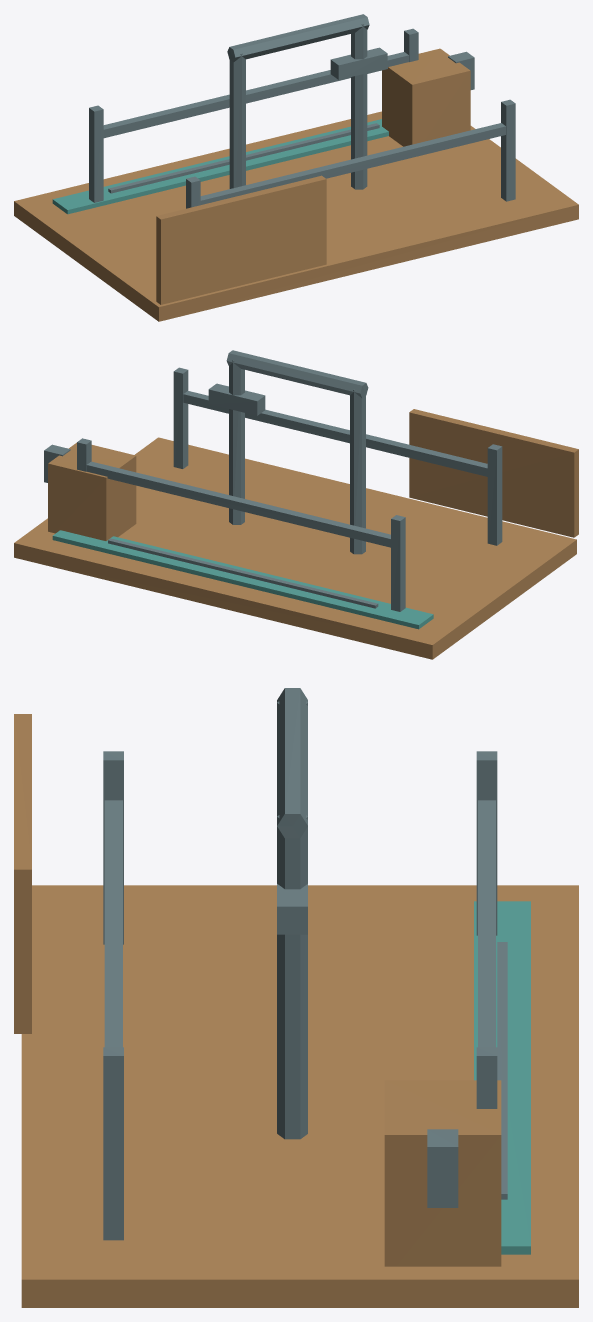
Rendered from animal-wash-station.source.glb.
3 views of the same model, one above another, from view 1: azimuth 30°, elevation 25°; view 2: azimuth 150°, elevation 25°; view 3: azimuth 270°, elevation 25° (orthographic). The views are drawn at different scales.
Visible parts, largest first — view 1: animal-wash-station-open-non-slip-wash-pad-mesh, animal-wash-station-broad-wash-entry-gate-frame-mesh, animal-wash-station-small-pump-control-cabinet-mesh, animal-wash-station-slim-side-wash-rail-mesh (×2), animal-wash-station-overhead-spray-arch-post-mesh (×2), animal-wash-station-shallow-drainage-channel-mesh, animal-wash-station-slim-side-rail-post-mesh (×4), animal-wash-station-restrained-overhead-spray-pipe-arch-mesh, animal-wash-station-drainage-grate-mesh, animal-wash-station-hose-manifold-cue-mesh, animal-wash-station-power-control-box-mesh; view 2: animal-wash-station-open-non-slip-wash-pad-mesh, animal-wash-station-broad-wash-entry-gate-frame-mesh, animal-wash-station-slim-side-wash-rail-mesh (×2), animal-wash-station-small-pump-control-cabinet-mesh, animal-wash-station-shallow-drainage-channel-mesh, animal-wash-station-slim-side-rail-post-mesh (×4), animal-wash-station-overhead-spray-arch-post-mesh (×2), animal-wash-station-restrained-overhead-spray-pipe-arch-mesh, animal-wash-station-drainage-grate-mesh, animal-wash-station-hose-manifold-cue-mesh; view 3: animal-wash-station-open-non-slip-wash-pad-mesh, animal-wash-station-small-pump-control-cabinet-mesh, animal-wash-station-shallow-drainage-channel-mesh, animal-wash-station-slim-side-wash-rail-mesh (×2), animal-wash-station-slim-side-rail-post-mesh (×4), animal-wash-station-overhead-spray-arch-post-mesh, animal-wash-station-broad-wash-entry-gate-frame-mesh, animal-wash-station-restrained-overhead-spray-pipe-arch-mesh, animal-wash-station-power-control-box-mesh, animal-wash-station-drainage-grate-mesh, animal-wash-station-hose-manifold-cue-mesh.
Part boxes in pixels (box(x1,y1,x2,y2)): animal-wash-station-open-non-slip-wash-pad-mesh: box(14, 111, 578, 321); animal-wash-station-broad-wash-entry-gate-frame-mesh: box(156, 175, 326, 304); animal-wash-station-small-pump-control-cabinet-mesh: box(382, 48, 470, 146); animal-wash-station-slim-side-wash-rail-mesh (×2): box(103, 52, 505, 204); animal-wash-station-overhead-spray-arch-post-mesh (×2): box(229, 24, 367, 189); animal-wash-station-shallow-drainage-channel-mesh: box(52, 119, 388, 214); animal-wash-station-slim-side-rail-post-mesh (×4): box(89, 28, 515, 208); animal-wash-station-restrained-overhead-spray-pipe-arch-mesh: box(227, 14, 369, 62); animal-wash-station-drainage-grate-mesh: box(108, 123, 379, 193); animal-wash-station-hose-manifold-cue-mesh: box(330, 47, 387, 79); animal-wash-station-power-control-box-mesh: box(448, 51, 474, 89); animal-wash-station-open-non-slip-wash-pad-mesh: box(14, 437, 576, 659); animal-wash-station-broad-wash-entry-gate-frame-mesh: box(409, 409, 578, 537); animal-wash-station-slim-side-wash-rail-mesh (×2): box(86, 391, 487, 547); animal-wash-station-small-pump-control-cabinet-mesh: box(48, 442, 136, 540); animal-wash-station-shallow-drainage-channel-mesh: box(52, 530, 433, 629); animal-wash-station-slim-side-rail-post-mesh (×4): box(77, 367, 502, 611); animal-wash-station-overhead-spray-arch-post-mesh (×2): box(229, 360, 365, 554); animal-wash-station-restrained-overhead-spray-pipe-arch-mesh: box(226, 350, 368, 398); animal-wash-station-drainage-grate-mesh: box(108, 538, 378, 608); animal-wash-station-hose-manifold-cue-mesh: box(208, 383, 265, 415); animal-wash-station-open-non-slip-wash-pad-mesh: box(21, 885, 578, 1307); animal-wash-station-small-pump-control-cabinet-mesh: box(384, 1080, 501, 1266); animal-wash-station-shallow-drainage-channel-mesh: box(474, 901, 530, 1254); animal-wash-station-slim-side-wash-rail-mesh (×2): box(104, 800, 495, 1047); animal-wash-station-slim-side-rail-post-mesh (×4): box(103, 751, 497, 1240); animal-wash-station-overhead-spray-arch-post-mesh: box(277, 815, 307, 1139); animal-wash-station-broad-wash-entry-gate-frame-mesh: box(14, 714, 31, 1033); animal-wash-station-restrained-overhead-spray-pipe-arch-mesh: box(277, 688, 307, 838); animal-wash-station-power-control-box-mesh: box(427, 1129, 458, 1207); animal-wash-station-drainage-grate-mesh: box(497, 942, 507, 1199); animal-wash-station-hose-manifold-cue-mesh: box(277, 884, 307, 934).
Bounding box in the file's own units: 3.61 × 1.53 × 2.18.
